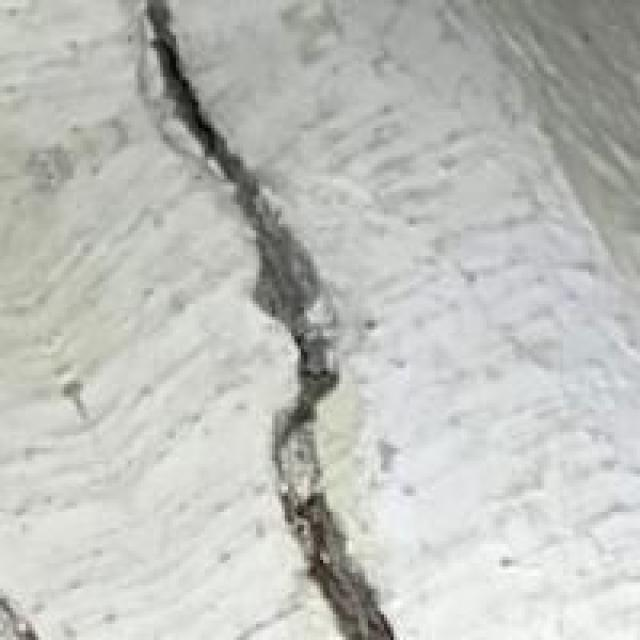crack: (96, 0, 416, 637)
